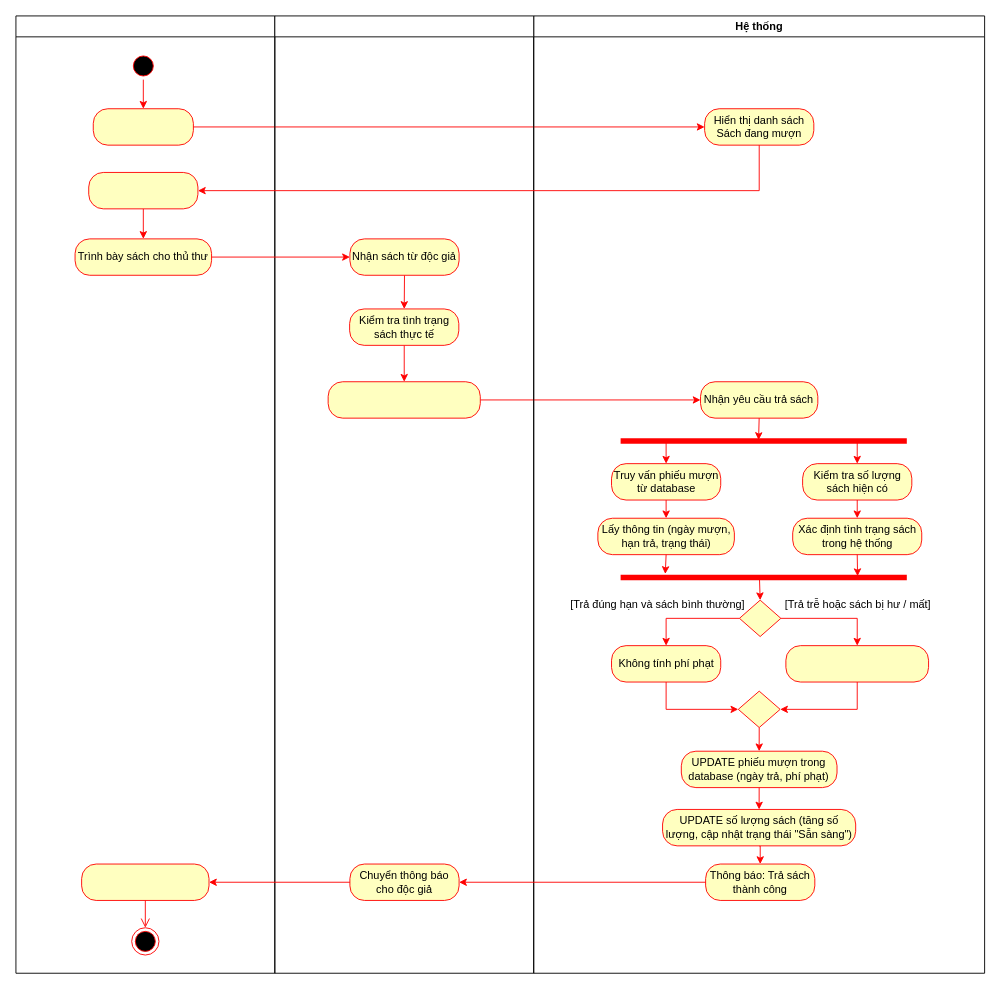
The diagram is 1001 pixels wide and 989 high, and some of its shapes have lost their labels. The shapes that lost their labels are listed below. From the top down, each one's box as (x1, y1, x2, y2) in pixels, then its label:
(92, 108, 193, 145): Chọn chức năng Trả sách
(88, 172, 198, 209): Chọn sách cần trả
(327, 381, 480, 418): Nhập thông tin trả sách (ngày trả, tình trạng xác nhận)
(15, 15, 275, 973): Độc giả
(274, 15, 534, 973): Thủ thư
(785, 645, 929, 682): Tính phí phạt (dựa trên số ngày trễ và tình trạng sách)
(81, 863, 209, 900): Nhận thông báo kết quả
